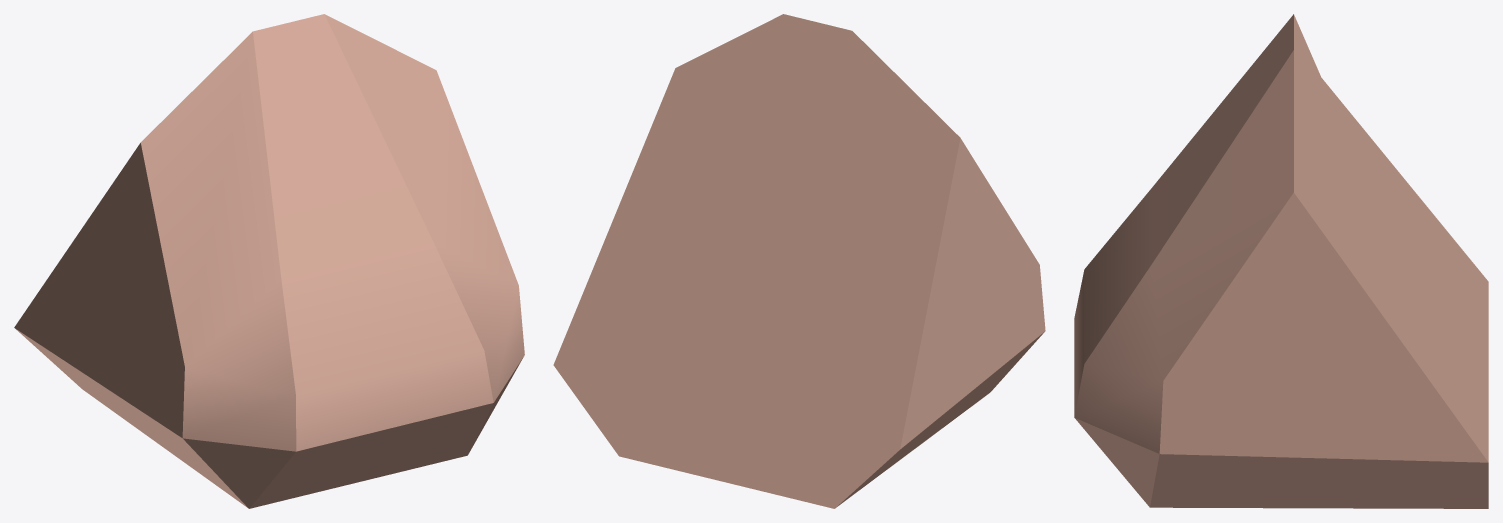
The model's file is Nariz_Bolita.fbx.
3 views of the same model, side by side, from view 1: azimuth 30°, elevation 25°; view 2: azimuth 150°, elevation 25°; view 3: azimuth 270°, elevation 25° (orthographic). The views are drawn at different scales.
Parts seen in each view (by area): view 1: Nariz_Bombacha; view 2: Nariz_Bombacha; view 3: Nariz_Bombacha.
Boxes of the visible parts, x1,y1,x2,y2 form: Nariz_Bombacha: (14, 14, 524, 508); Nariz_Bombacha: (553, 14, 1045, 508); Nariz_Bombacha: (1074, 14, 1488, 508).
Size of the model in its own units: 0.4233 by 0.4591 by 0.4099.
